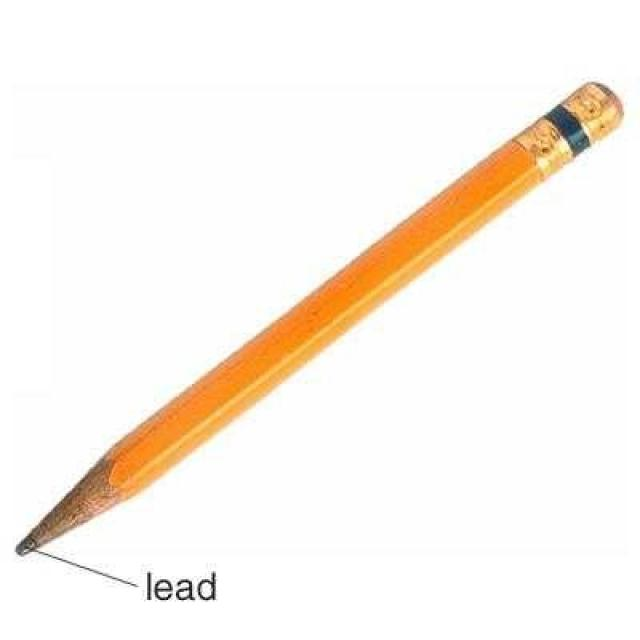pencil: (0, 55, 638, 567)
